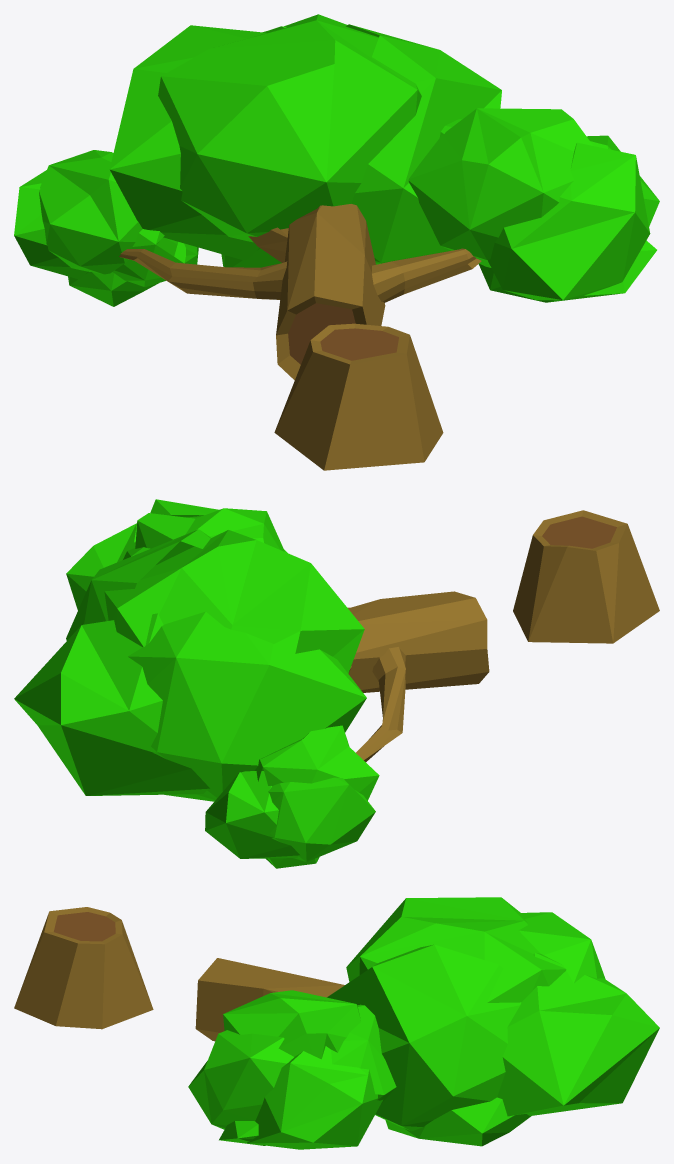
Rendered from Tree#13.fbx.
3 renders of one model, top to bottom at view 1: azimuth 30°, elevation 25°; view 2: azimuth 150°, elevation 25°; view 3: azimuth 270°, elevation 25°, orthographic. The views are drawn at different scales.
Parts seen in each view (by area): view 1: Tree#13; view 2: Tree#13; view 3: Tree#13.
Boxes of the visible parts, x1,y1,x2,y2 form: Tree#13: [14, 14, 659, 470]; Tree#13: [14, 499, 659, 868]; Tree#13: [14, 897, 659, 1149].
Size of the model in its own units: 907 by 478 by 1275.
